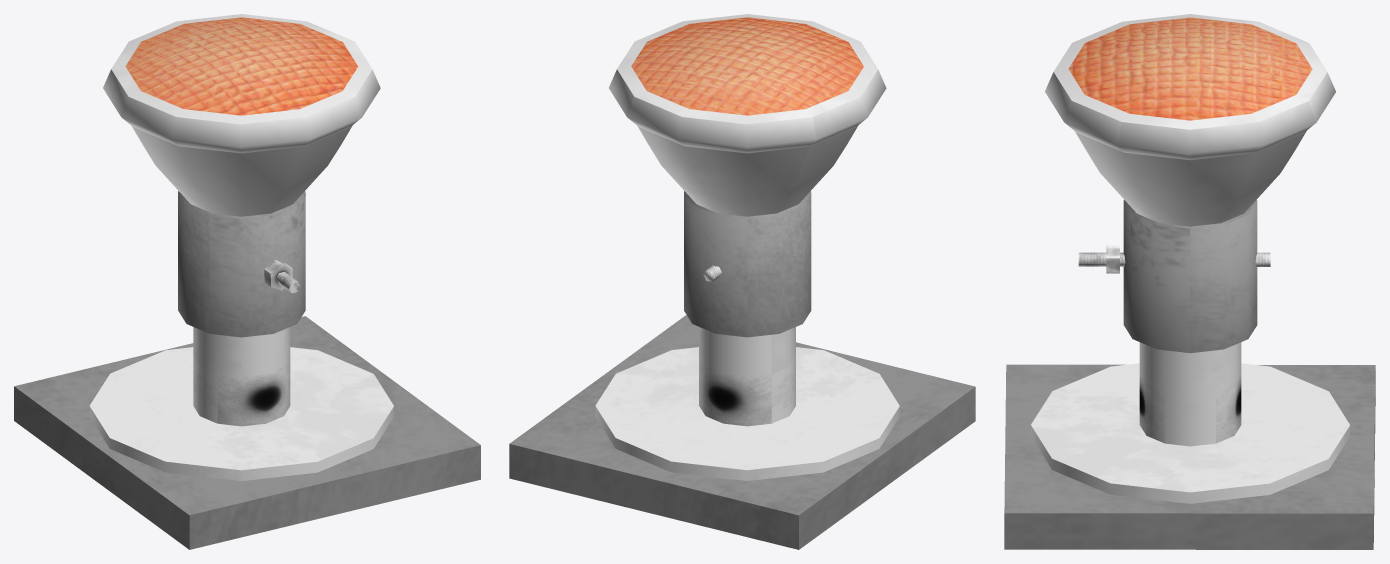
File: Flood Red.fbx
The picture shows the model from 3 angles, left to right: view 1: azimuth 30°, elevation 25°; view 2: azimuth 150°, elevation 25°; view 3: azimuth 270°, elevation 25°; orthographic projection. The views are drawn at different scales.
Parts seen in each view (by area): view 1: Circle.006; view 2: Circle.006; view 3: Circle.006.
Boxes of the visible parts, x1,y1,x2,y2 form: Circle.006: (14,14,480,549); Circle.006: (509,14,975,549); Circle.006: (1004,14,1375,549).
Size of the model in its own units: 12.19 by 16.01 by 12.83.
